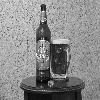beer: (33, 3, 51, 84)
